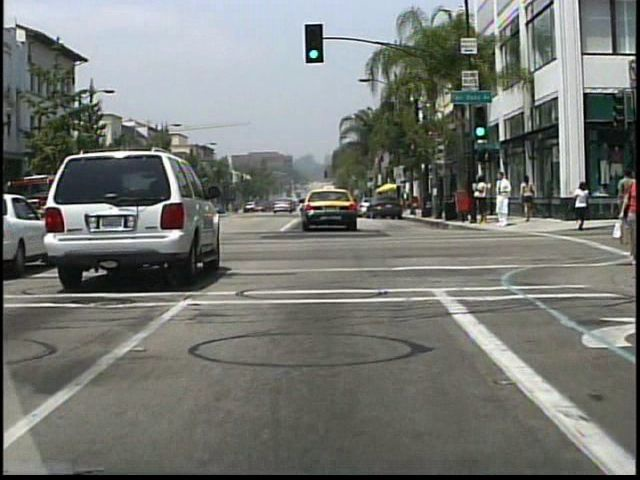person: (610, 171, 638, 263), (613, 168, 634, 232), (492, 173, 513, 228), (573, 180, 592, 232), (521, 176, 538, 225), (475, 173, 489, 226), (402, 191, 411, 215)
